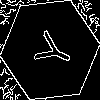Y: (25, 25, 76, 74)
